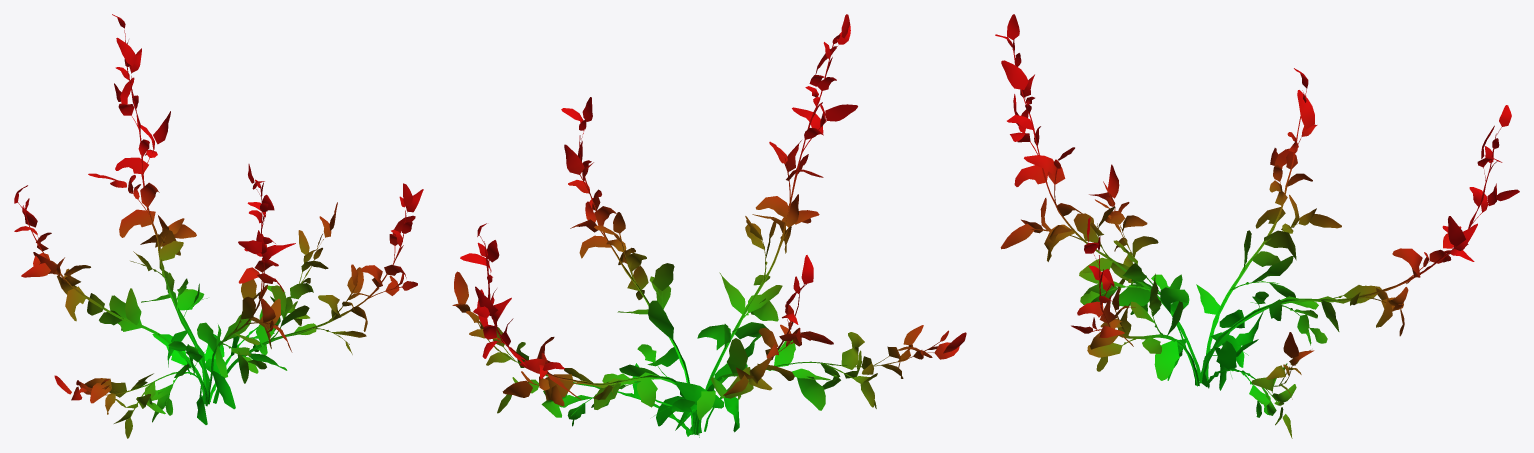
Rendered from Var1_LOD0.fbx.
3 renders of one model, left to right at view 1: azimuth 30°, elevation 25°; view 2: azimuth 150°, elevation 25°; view 3: azimuth 270°, elevation 25°, orthographic. The views are drawn at different scales.
Visible parts, largest first — view 1: _7581_Var1_LOD0; view 2: _7581_Var1_LOD0; view 3: _7581_Var1_LOD0.
Part boxes in pixels (left/top/right/bottom): _7581_Var1_LOD0: left=14, top=14, right=423, bottom=438; _7581_Var1_LOD0: left=452, top=14, right=966, bottom=437; _7581_Var1_LOD0: left=995, top=14, right=1519, bottom=438.
Size of the model in its own units: 12.35 by 10.39 by 14.03.
